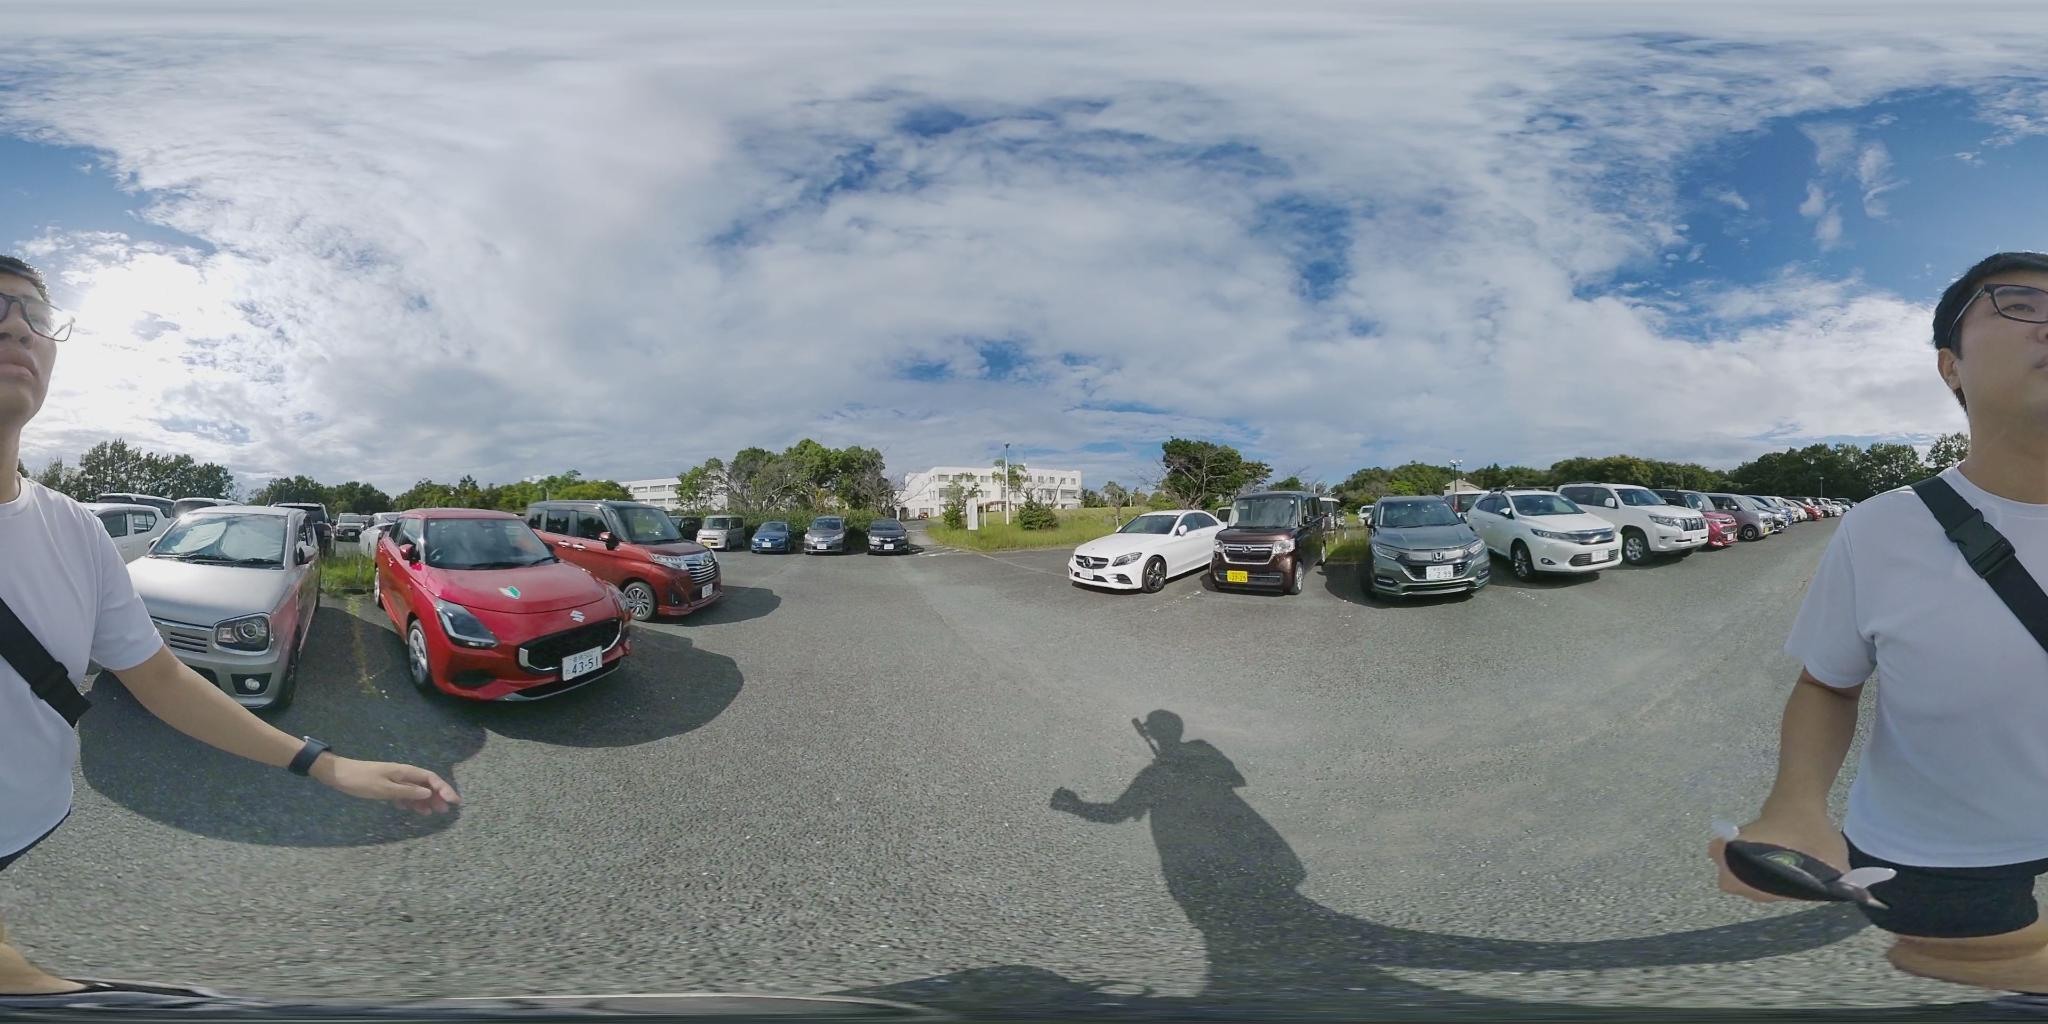car: (366, 509, 635, 705), (116, 502, 330, 699), (529, 498, 730, 619), (1456, 491, 1633, 581), (1068, 512, 1230, 594), (1554, 483, 1711, 563), (1370, 499, 1480, 600), (1224, 495, 1320, 590), (1678, 488, 1766, 541), (1716, 492, 1793, 537), (1749, 494, 1800, 533), (870, 520, 917, 552), (700, 516, 742, 550), (806, 517, 845, 552), (750, 522, 793, 554)
